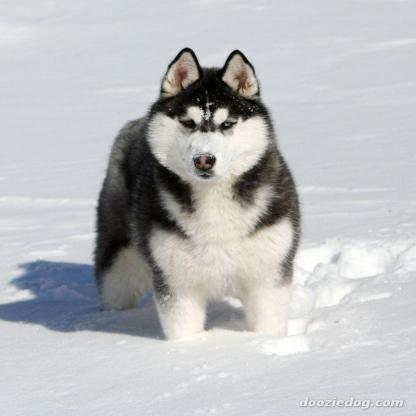Siberian_husky: (95, 46, 302, 336)
